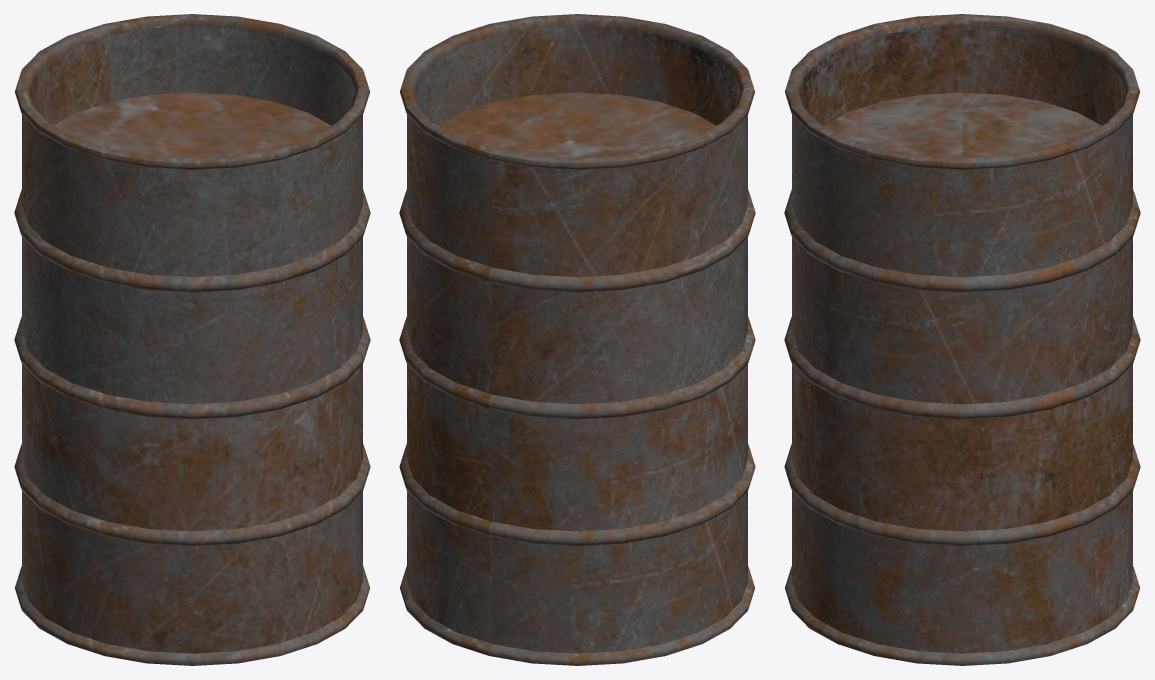
The model's file is Metal_Barrel02.fbx.
3 views of the same model, side by side, from view 1: azimuth 30°, elevation 25°; view 2: azimuth 150°, elevation 25°; view 3: azimuth 270°, elevation 25° (orthographic).
Parts seen in each view (by area): view 1: Metal_Barrel02; view 2: Metal_Barrel02; view 3: Metal_Barrel02.
Boxes of the visible parts, box(x1,y1,x2,y2) form: Metal_Barrel02: box(14, 14, 370, 665); Metal_Barrel02: box(399, 14, 755, 665); Metal_Barrel02: box(784, 14, 1140, 665).
Bounding box in the file's own units: 65.66 × 103 × 65.66.
